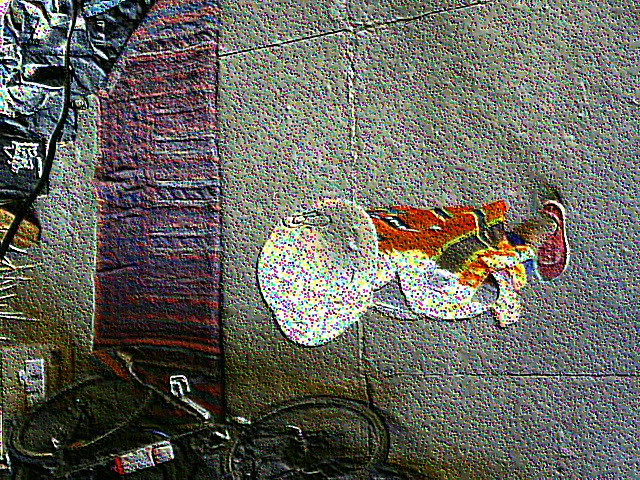eight: (278, 211, 330, 231)
